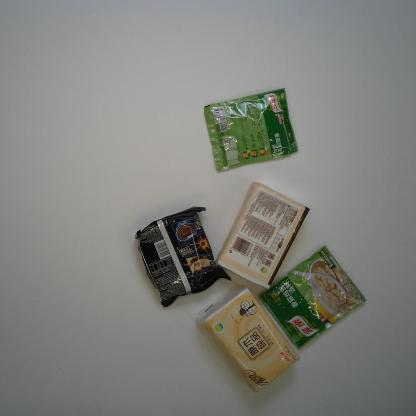Instant Noodles: (133, 205, 233, 309)
Seasoner: (256, 244, 368, 350), (204, 86, 299, 173)
Tissue: (195, 283, 301, 393), (216, 180, 311, 290)
